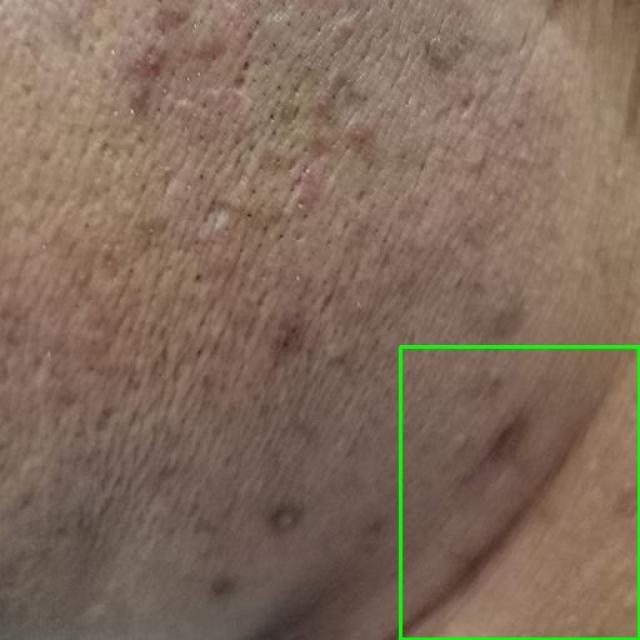Eczema: (400, 346, 639, 639)
